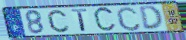8: (25, 9, 45, 35)
C: (92, 5, 118, 34), (115, 6, 143, 32), (46, 9, 71, 34)
D: (138, 4, 165, 31)
T: (70, 8, 89, 33)
